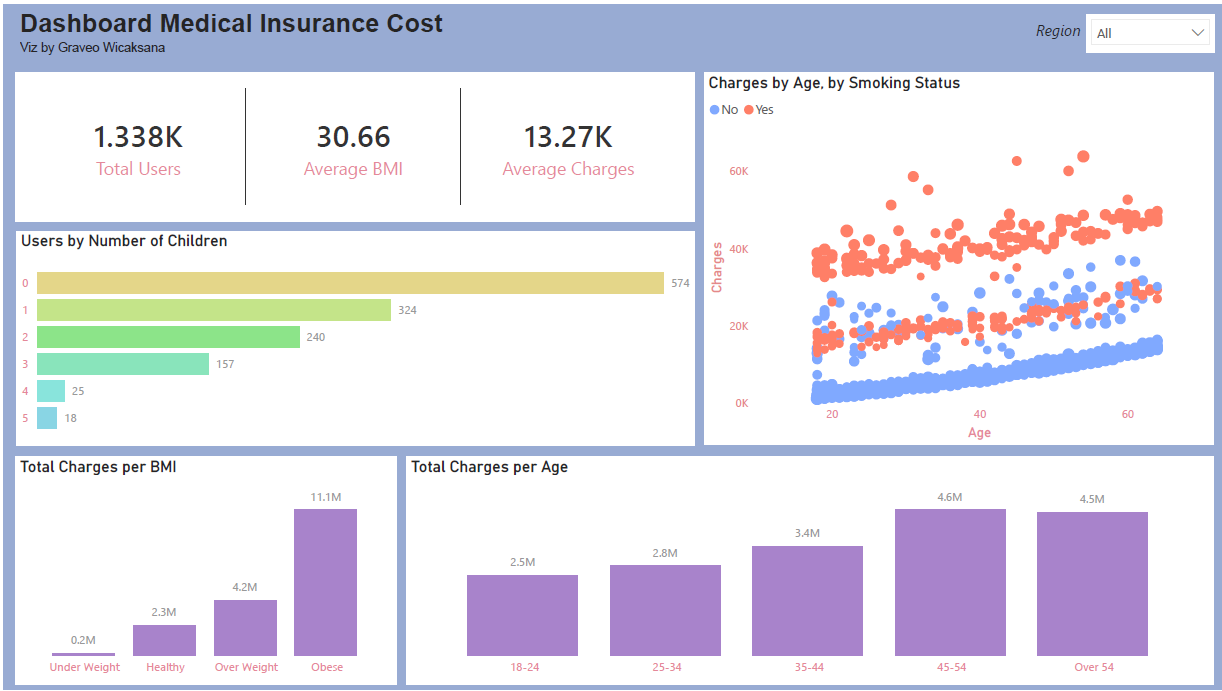

What the dashboard file says about the page in this screenshot:
{"tool":"powerbi","page":{"name":"Page 1","canvas":[1280,720],"ordinal":0},"visuals":[{"type":"textbox","box":[12.3,0,1258.3,60.4],"z":0},{"type":"slicer","fields":{"Values":["insurance.region"]},"box":[1138,10,135,40],"z":1000},{"type":"columnChart","title":"Total Charges per Age","fields":{"Category":["insurance.Grouping_Age"],"Y":["Sum(insurance.charges)"]},"box":[422.6,474.8,848,238.8],"z":3000},{"type":"barChart","title":"Users by Children","fields":{"Category":["insurance.children"],"Y":["CountNonNull(insurance.charges)"]},"box":[12.5,237.5,713.8,225],"z":4000},{"type":"columnChart","title":"Total Charges per BMI","fields":{"Category":["insurance.Grouping_BMI"],"Y":["Sum(insurance.charges)"]},"box":[12.3,474.8,400.7,238.8],"z":5000},{"type":"cardVisual","fields":{"Data":["CountNonNull(insurance.age)","Avg(insurance.bmi)","Avg(insurance.charges)"]},"box":[12.3,71.4,713.6,156.4],"z":6000},{"type":"textbox","box":[1080,11.4,91.4,37.1],"z":6500},{"type":"scatterChart","title":"Charges by Age, by Smoker","fields":{"X":["insurance.age"],"Y":["insurance.charges"],"Series":["insurance.smoker"],"Size":["Sum(insurance.bmi)"]},"box":[735.5,71.4,535.2,391.1],"z":7000}]}

Visuals, with their boxes in screenshot pixels (x1, y1, x2, y2), scaled from the page's 1280x720 canvas onto the 1222x691 screenshot:
textbox: x1=12 y1=0 x2=1213 y2=58
slicer - insurance.region: x1=1086 y1=10 x2=1215 y2=48
"Total Charges per Age" columnChart: x1=403 y1=456 x2=1213 y2=685
"Users by Children" barChart: x1=12 y1=228 x2=693 y2=444
"Total Charges per BMI" columnChart: x1=12 y1=456 x2=394 y2=685
cardVisual - CountNonNull(insurance.age) x Avg(insurance.bmi): x1=12 y1=69 x2=693 y2=219
textbox: x1=1031 y1=11 x2=1118 y2=47
"Charges by Age, by Smoker" scatterChart: x1=702 y1=69 x2=1213 y2=444
